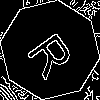R: (25, 25, 83, 81)
